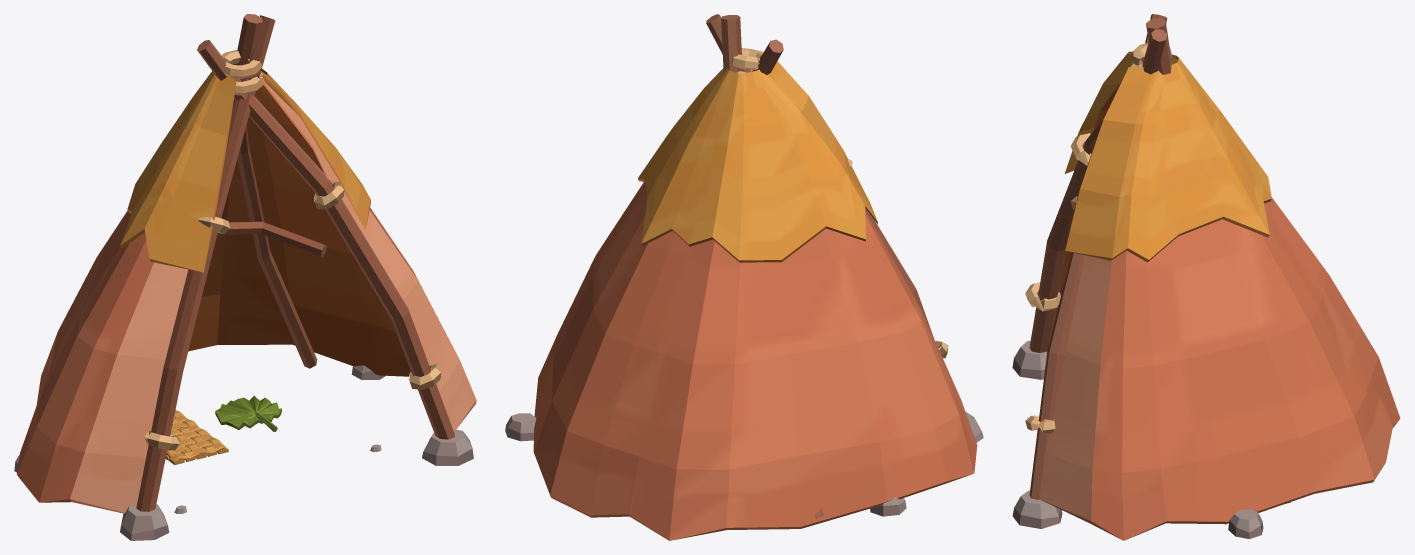
File: 01_Coral_High_Peak.glb
3 renders of one model, left to right at view 1: azimuth 30°, elevation 25°; view 2: azimuth 150°, elevation 25°; view 3: azimuth 270°, elevation 25°, orthographic.
Visible parts, largest first — view 1: 01_Coral_High_Peak; view 2: 01_Coral_High_Peak; view 3: 01_Coral_High_Peak.
Part boxes in pixels (<box>): 01_Coral_High_Peak: <box>14,14,476,540</box>; 01_Coral_High_Peak: <box>505,14,983,540</box>; 01_Coral_High_Peak: <box>1012,14,1400,540</box>.
Bounding box in the file's own units: 9.16 × 8.78 × 7.19.
3 materials, 3 textured.
